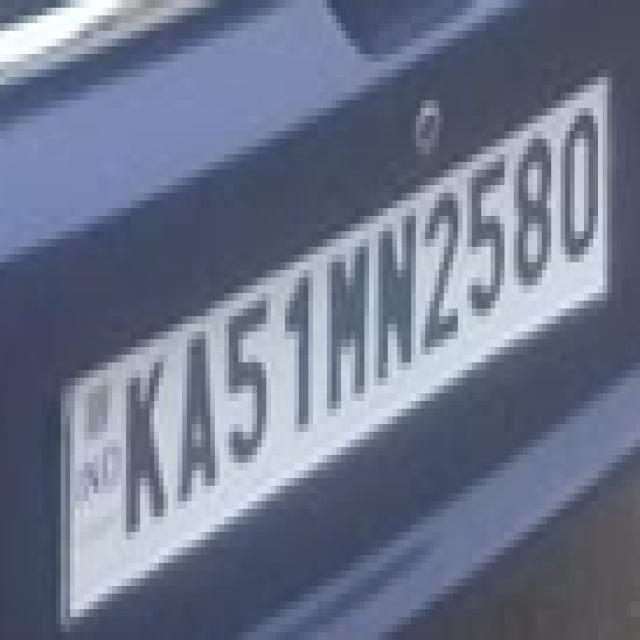0: (558, 101, 605, 273)
5: (224, 288, 274, 478), (466, 146, 511, 325), (280, 262, 316, 444)
8: (512, 124, 554, 302)
A: (176, 326, 220, 514)
K: (121, 355, 170, 538)
M: (325, 236, 368, 424)
N: (373, 200, 417, 386)
